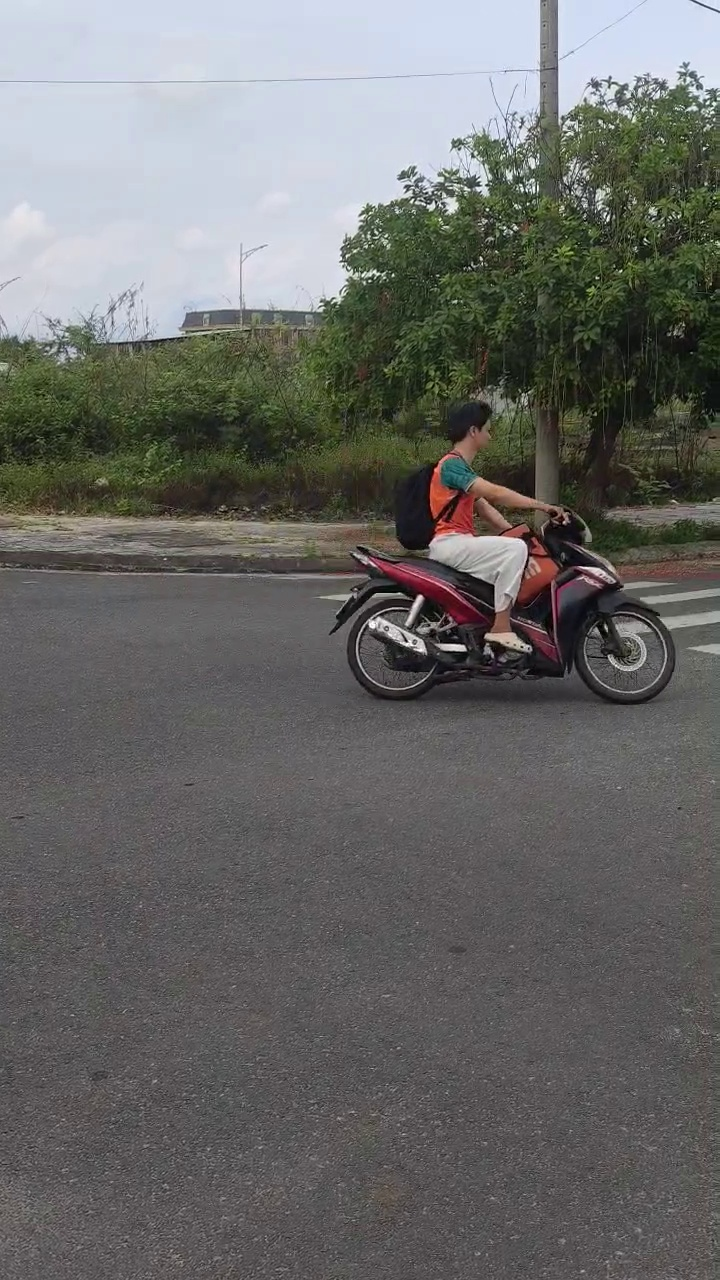no_helmet: (443, 394, 493, 465)
